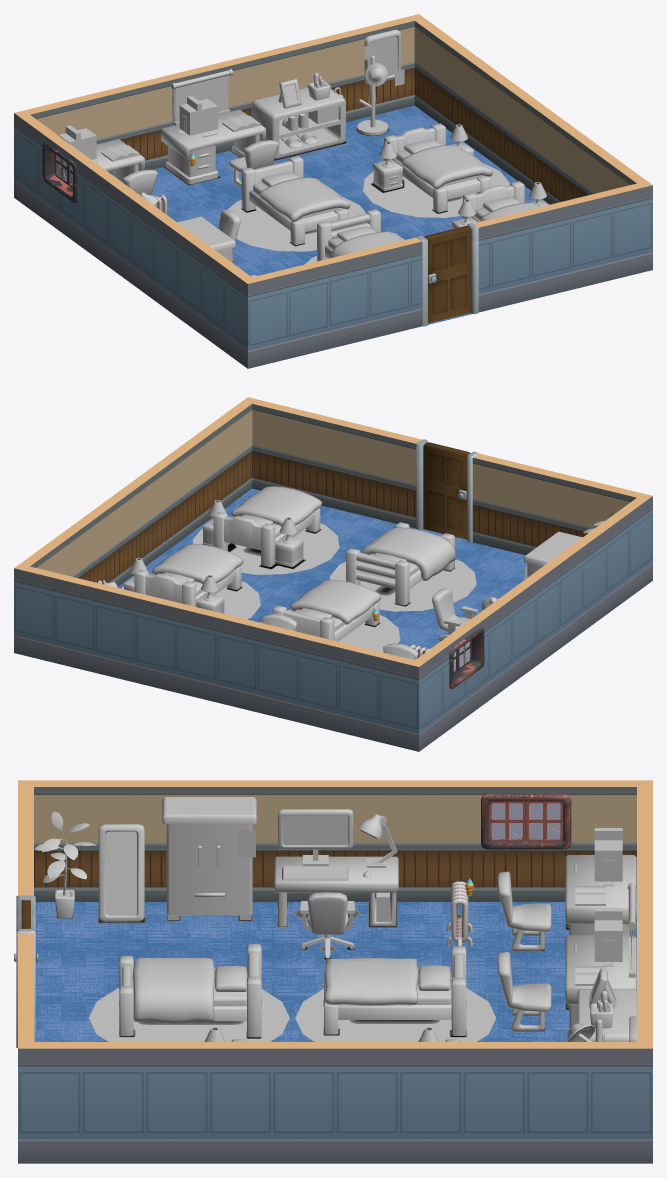
The model's file is StudentDormitory.FBX.
3 renders of one model, top to bottom at view 1: azimuth 30°, elevation 25°; view 2: azimuth 150°, elevation 25°; view 3: azimuth 270°, elevation 25°, orthographic. The views are drawn at different scales.
Visible parts, largest first — view 1: zza058, zza038, zza032, zza039, zza042, StudentDormitory_Item_Bed_03, StudentDormitory_Item_Desk001, StudentDormitory_Item_ShoeCabinet, StudentDormitory_Item_Bed_01, zza005, zza050, zza047 (+40 smaller); view 2: zza058, zza013, zza01, zza004, zza010, zza007, zza033, StudentDormitory_Item_Bed_004, zza040, zza044, StudentDormitory_Item_Bed_02, StudentDormitory_Item_Bed_03 (+34 smaller); view 3: zza058, zza017, zza020, zza023, zza024, zza027, StudentDormitory_Item_ComputerDesk, StudentDormitory_Item_Closet, StudentDormitory_Item_Bed_02, StudentDormitory_Item_Bed_01, zza059, StudentDormitory_Item_Desk (+49 smaller).
Boxes of the visible parts, <box> form: zza058: <box>14,113,117,265</box>; zza038: <box>572,185,652,289</box>; zza032: <box>491,205,571,309</box>; zza039: <box>329,244,409,348</box>; zza042: <box>248,264,328,368</box>; StudentDormitory_Item_Bed_03: <box>373,123,492,212</box>; StudentDormitory_Item_Desk001: <box>161,95,278,187</box>; StudentDormitory_Item_ShoeCabinet: <box>252,73,345,159</box>; StudentDormitory_Item_Bed_01: <box>241,156,350,245</box>; zza005: <box>101,77,181,174</box>; zza050: <box>107,182,154,299</box>; zza047: <box>154,216,200,334</box>; zza058: <box>415,596,512,751</box>; zza013: <box>14,568,94,672</box>; zza01: <box>338,647,418,751</box>; zza004: <box>257,627,337,731</box>; zza010: <box>95,588,175,692</box>; zza007: <box>176,608,256,712</box>; zza033: <box>323,421,403,523</box>; StudentDormitory_Item_Bed_004: <box>202,486,322,567</box>; zza040: <box>485,460,565,555</box>; zza044: <box>252,404,322,505</box>; StudentDormitory_Item_Bed_02: <box>346,522,456,605</box>; StudentDormitory_Item_Bed_03: <box>123,544,243,613</box>; zza058: <box>399,780,652,901</box>; zza017: <box>399,1048,525,1163</box>; zza020: <box>272,1048,398,1163</box>; zza023: <box>526,1048,652,1163</box>; zza024: <box>145,1048,271,1163</box>; zza027: <box>18,1048,144,1163</box>; StudentDormitory_Item_ComputerDesk: <box>274,809,398,959</box>; StudentDormitory_Item_Closet: <box>162,797,256,919</box>; StudentDormitory_Item_Bed_02: <box>119,944,261,1037</box>; StudentDormitory_Item_Bed_01: <box>324,946,466,1035</box>; zza059: <box>34,787,144,901</box>; StudentDormitory_Item_Desk: <box>497,828,636,950</box>.
Bounding box in the file's own units: 10.06 × 2.02 × 10.07.
